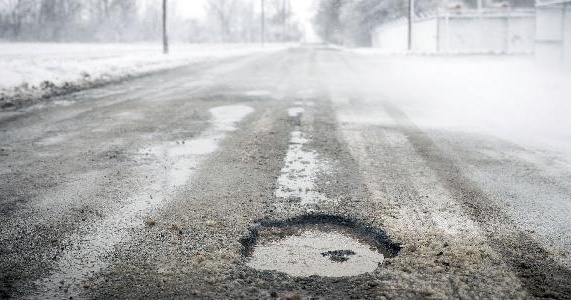pothole: (234, 208, 406, 280)
